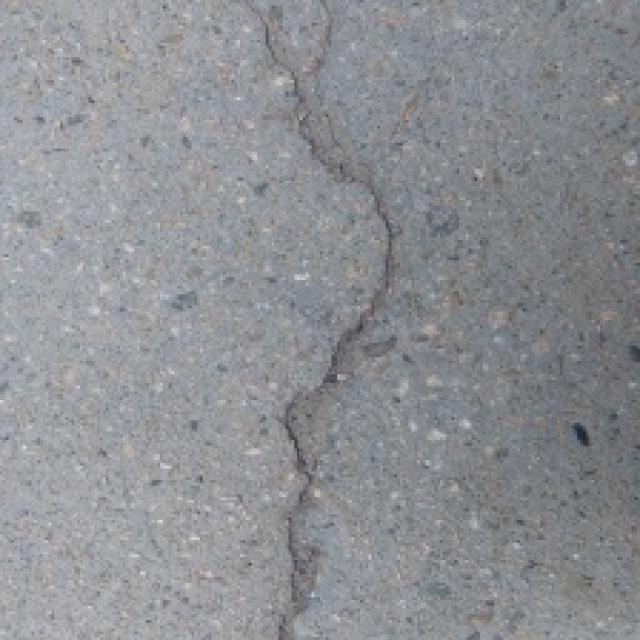SurfaceCrack: (246, 4, 414, 640)
